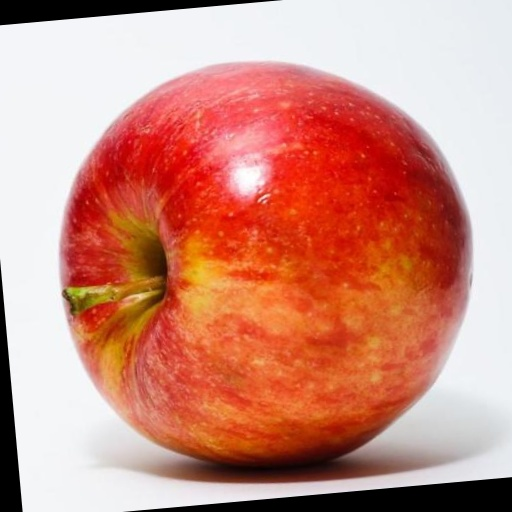fruit: (61, 63, 471, 466)
